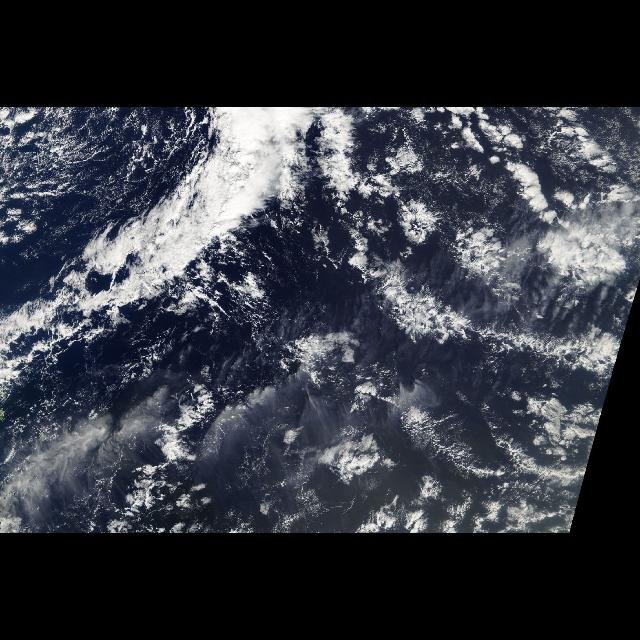Fish: (1, 119, 632, 473)
Gravel: (5, 112, 142, 206)
